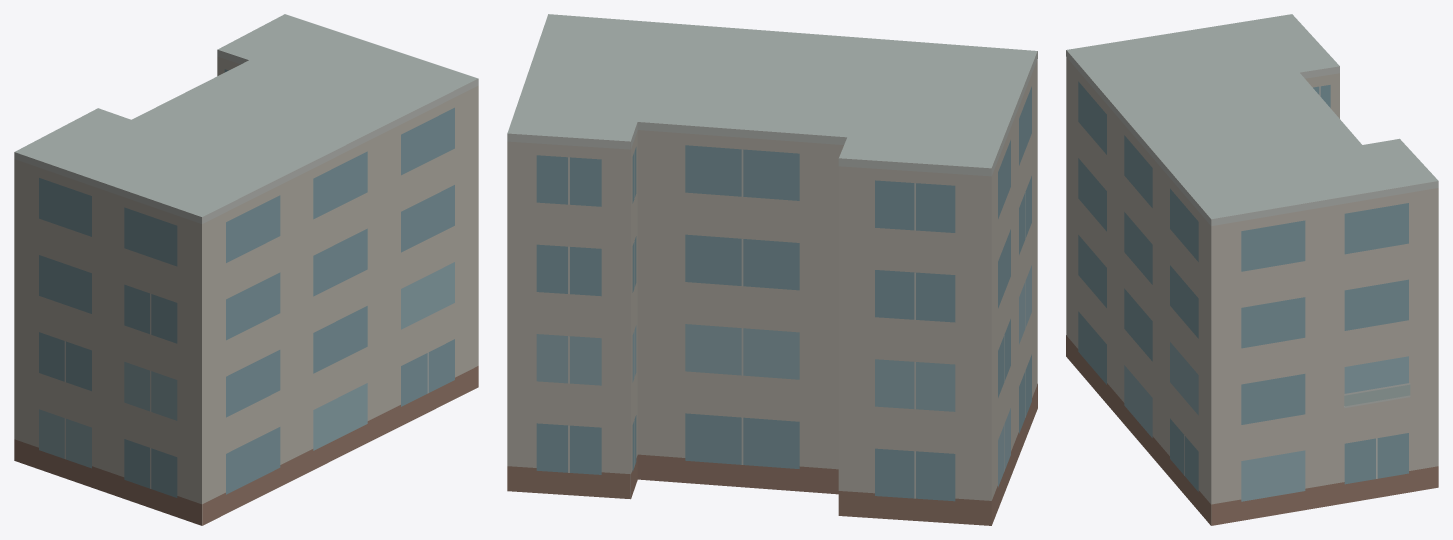
Rendered from survey-upis-32853649.glb.
3 views of the same model, side by side, from view 1: azimuth 30°, elevation 25°; view 2: azimuth 150°, elevation 25°; view 3: azimuth 270°, elevation 25° (orthographic). The views are drawn at different scales.
Parts seen in each view (by area): view 1: survey-upis-32853649.tmp; view 2: survey-upis-32853649.tmp; view 3: survey-upis-32853649.tmp.
Boxes of the visible parts, x1=… form: survey-upis-32853649.tmp: x1=14, y1=14, x2=478, y2=525; survey-upis-32853649.tmp: x1=507, y1=14, x2=1037, y2=525; survey-upis-32853649.tmp: x1=1066, y1=14, x2=1438, y2=525.
Size of the model in its own units: 15.52 by 10.8 by 11.9.
